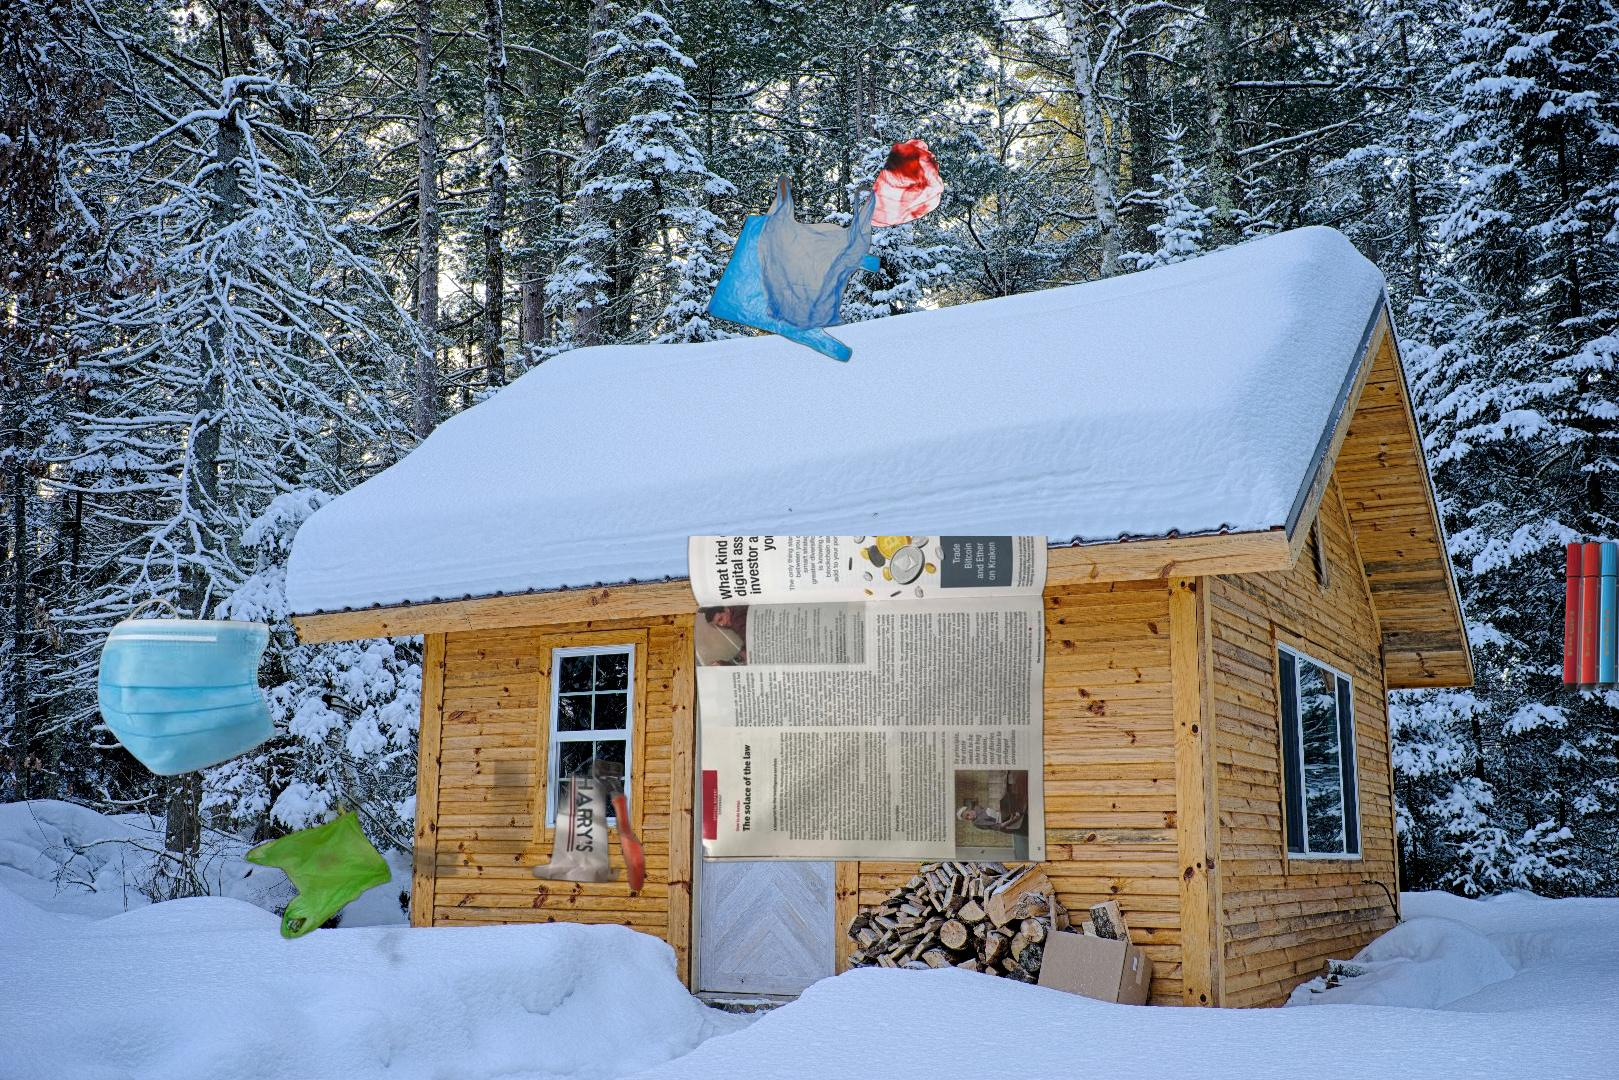paper: (352, 630, 848, 904), (684, 536, 1053, 866)
penholder: (1560, 537, 1619, 819)
plastic-bag: (704, 135, 948, 365), (228, 777, 454, 983)
plastic-bottles: (644, 217, 932, 779), (1596, 531, 1619, 795)
trash: (94, 595, 311, 779)
